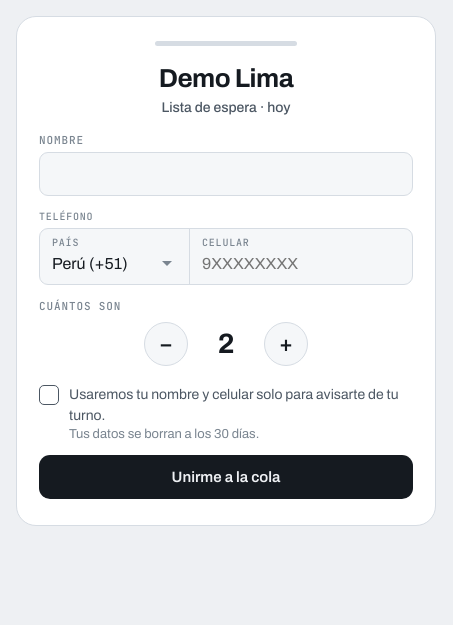
Test: JoinPage: errores al enviar › muestra el mensaje de 409 already_in_queue
The image size is (453, 625).
Check: the heading "Demo Lima" is shown, box top-left (159, 64), bottom-right (293, 92)
Type "Ana Torres" into the field labelled "Nombre" at (226,174), box top-left (39, 152), bottom-right (413, 196)
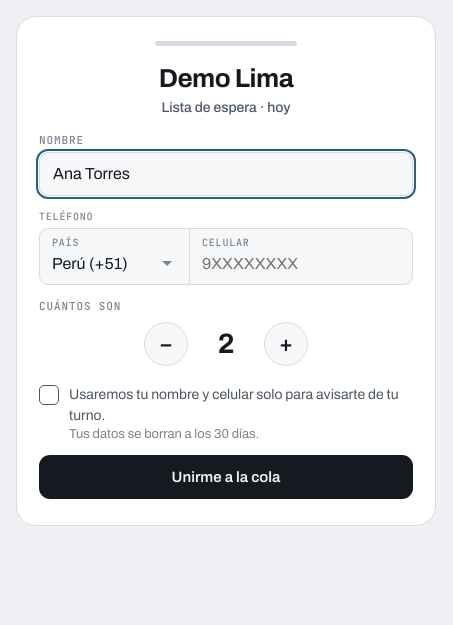
Type "987654321" into the field labelled "Celular" at (301,264), box top-left (202, 251), bottom-right (400, 277)
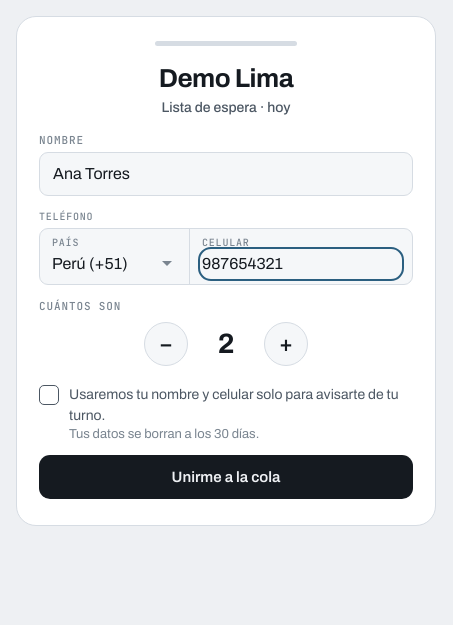
Click the checkbox at (49,395), box top-left (39, 385), bottom-right (59, 405)
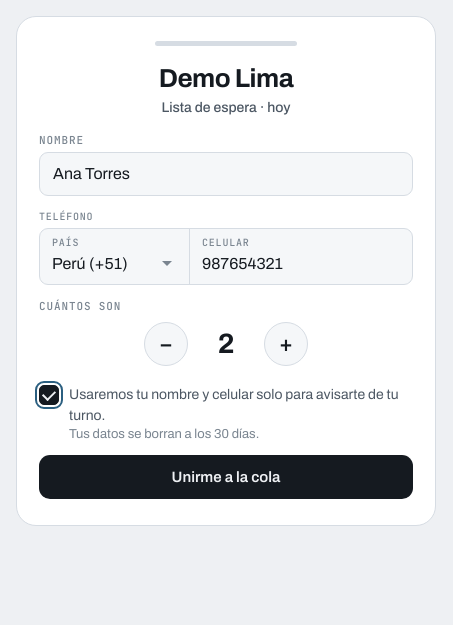
Click the button "Unirme a la cola" at (226,477), box top-left (39, 455), bottom-right (413, 499)
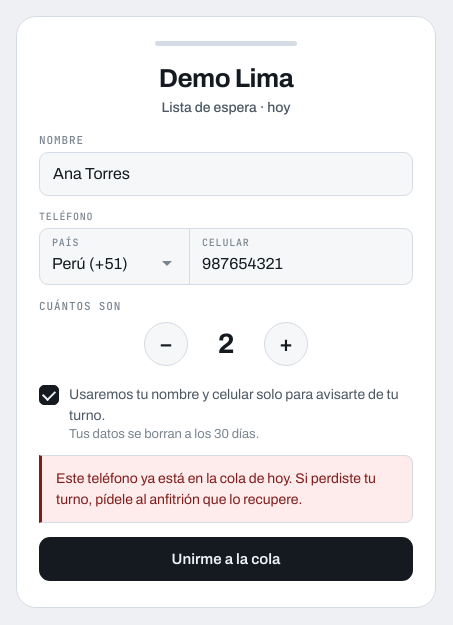
Check: the text "Este teléfono ya está en la cola de hoy. Si perdiste tu turno, pídele al anfitrión que lo recupere." is shown, box top-left (56, 471), bottom-right (376, 507)
